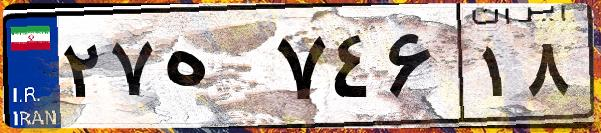1: (475, 38, 525, 113)
2: (57, 26, 110, 100)
4: (330, 28, 385, 110)
6: (385, 28, 445, 110)
7: (270, 28, 330, 110), (110, 28, 158, 98)
8: (525, 38, 570, 115)
ه: (158, 20, 270, 120)
